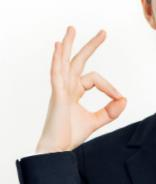left: (41, 25, 124, 144)
